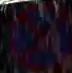No waiting: (4, 5, 61, 70)
